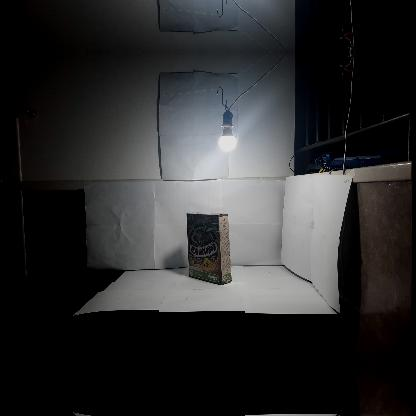Koko-Krunch: (186, 212, 232, 284)
